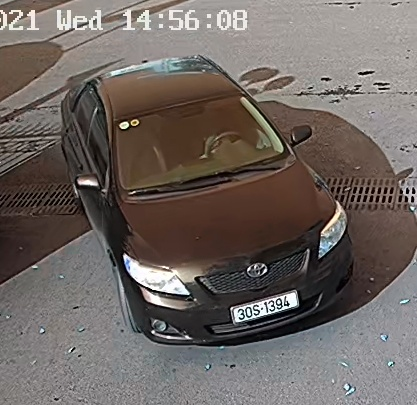vehicle plate: (216, 290, 300, 321)
